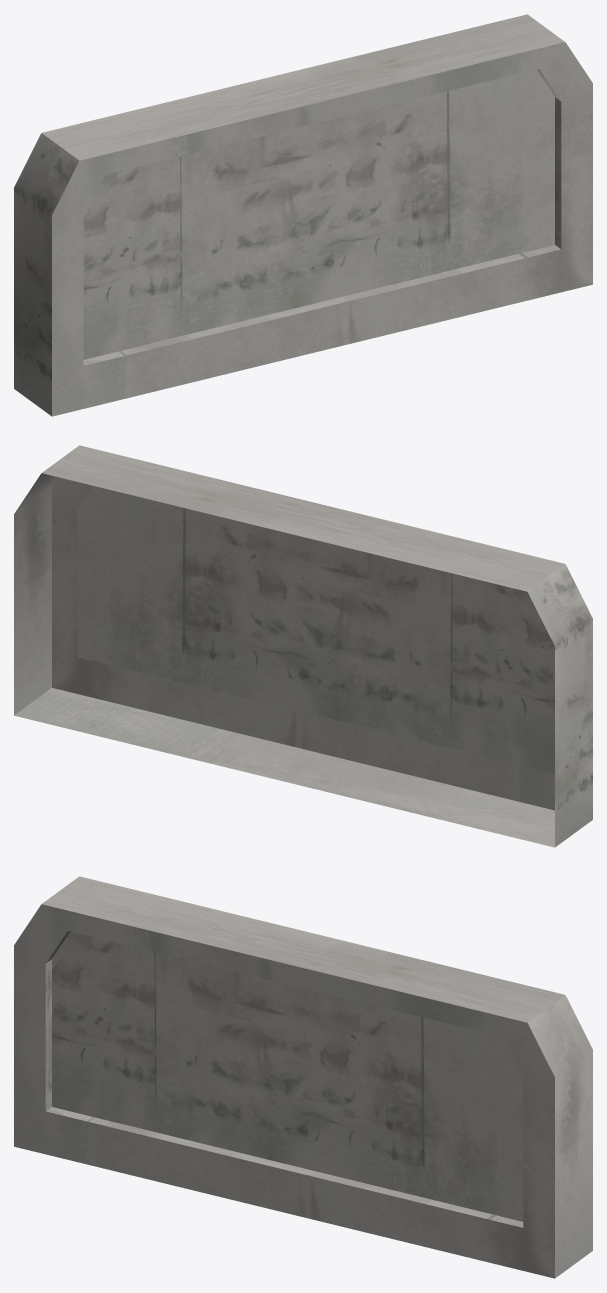
Rendered from backwall.fbx.
The picture shows the model from 3 angles, top to bottom: view 1: azimuth 30°, elevation 25°; view 2: azimuth 150°, elevation 25°; view 3: azimuth 330°, elevation 25°; orthographic projection.
Parts seen in each view (by area): view 1: Box069; view 2: Box069; view 3: Box069.
Boxes of the visible parts, bbox=[...] form: Box069: bbox=[14, 14, 592, 416]; Box069: bbox=[14, 445, 592, 847]; Box069: bbox=[14, 876, 592, 1278].
Bounding box in the file's own units: 9.08 × 4 × 1.11.
